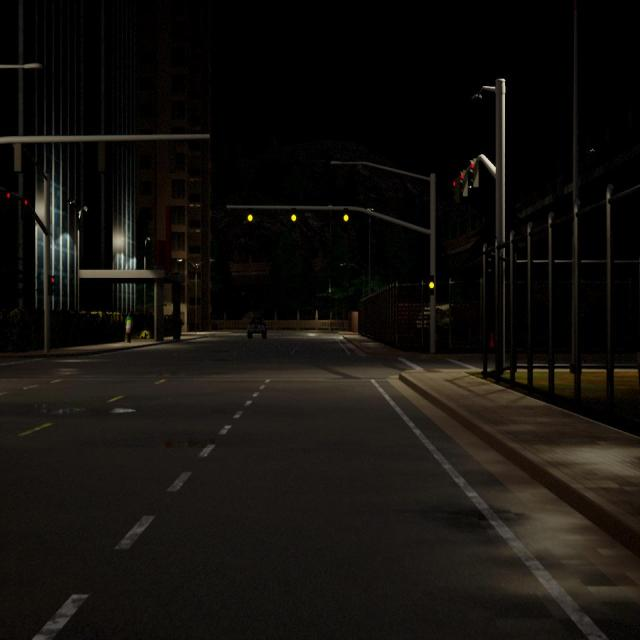Pedestrian: (125, 312, 133, 342)
Vehicle: (247, 312, 267, 338)
traffic_light: (470, 159, 478, 187), (460, 170, 468, 197), (426, 275, 434, 296), (49, 276, 56, 296), (453, 181, 459, 202), (247, 209, 253, 227), (291, 207, 297, 225), (344, 208, 348, 226), (24, 200, 28, 207), (6, 192, 10, 198)
